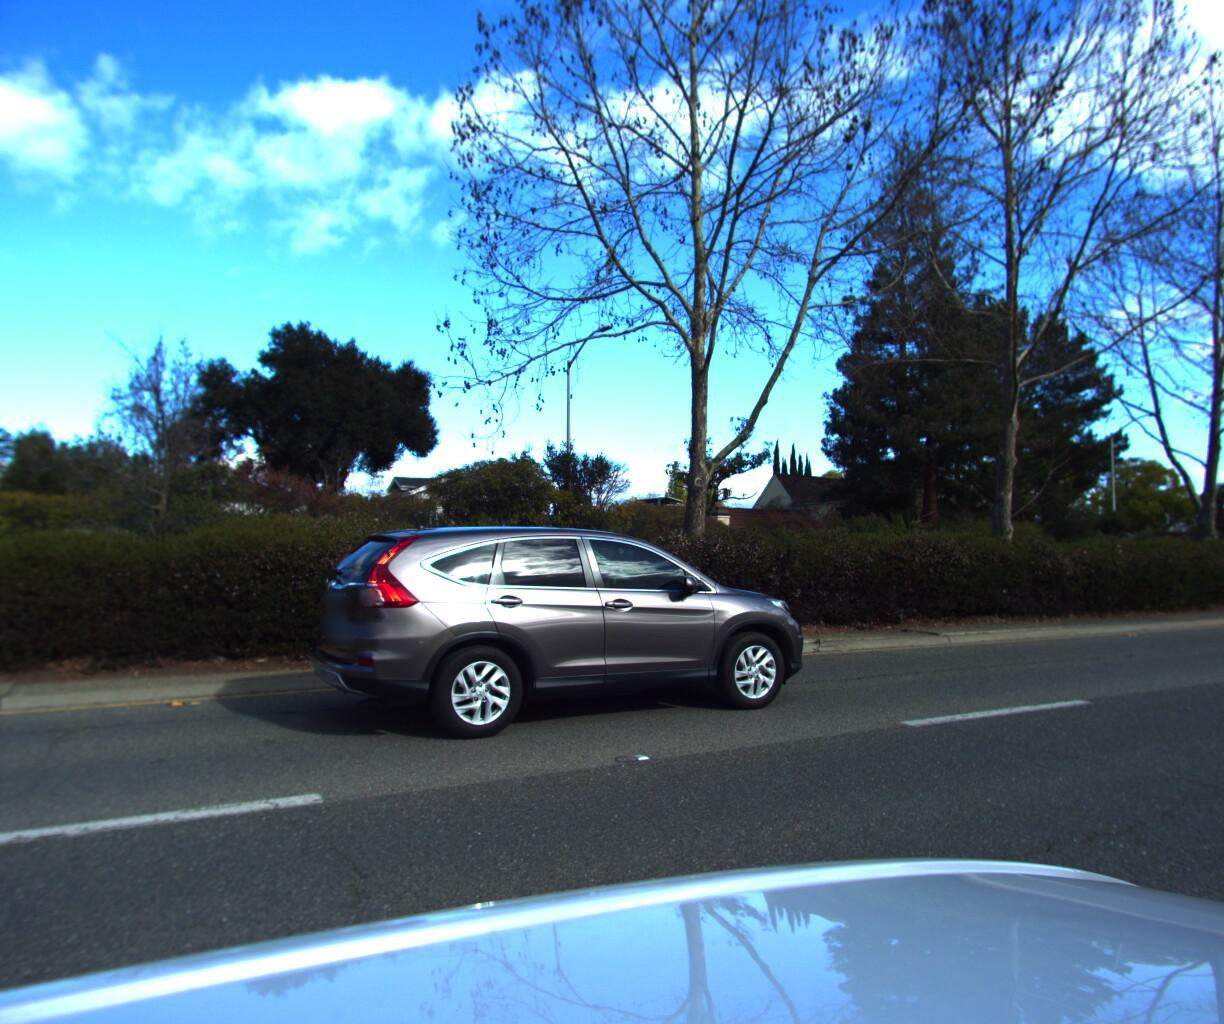car: (302, 496, 825, 751)
